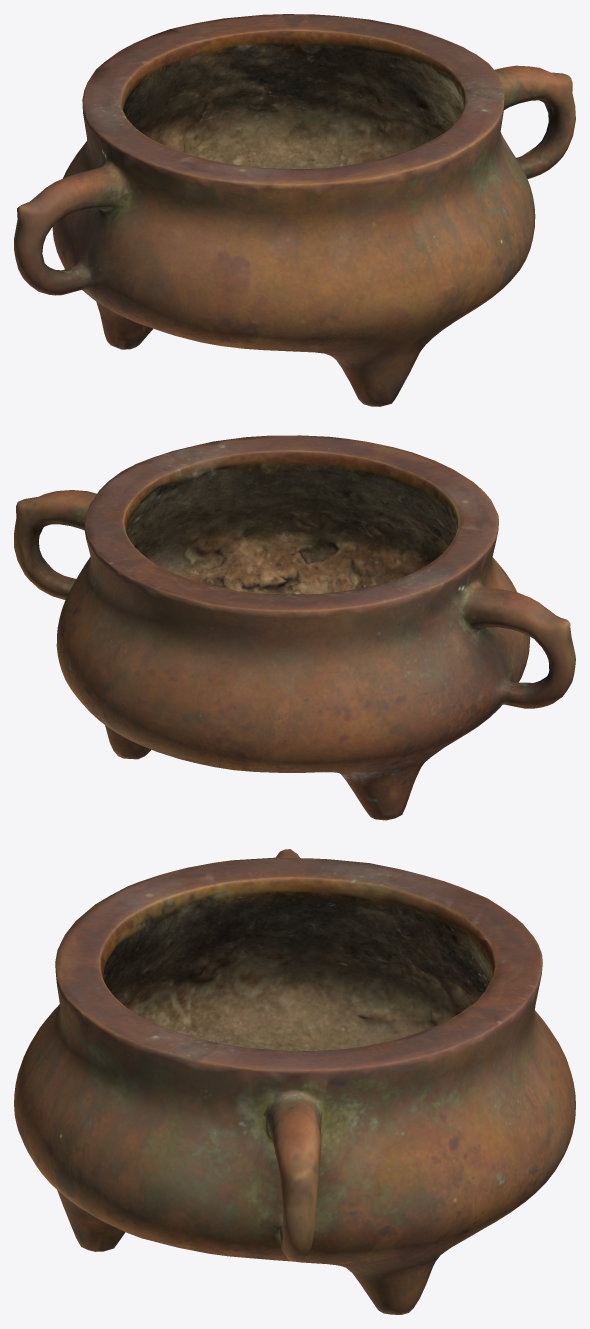
The model's file is MTY005111.glb.
The picture shows the model from 3 angles, top to bottom: view 1: azimuth 30°, elevation 25°; view 2: azimuth 150°, elevation 25°; view 3: azimuth 270°, elevation 25°; orthographic projection. The views are drawn at different scales.
Parts seen in each view (by area): view 1: MTY002606; view 2: MTY002606; view 3: MTY002606.
Part boxes in pixels (bbox=[...]): MTY002606: bbox=[14, 14, 575, 406]; MTY002606: bbox=[14, 435, 575, 820]; MTY002606: bbox=[14, 849, 575, 1314].
Size of the model in its own units: 52.35 by 21.61 by 38.59.
1 material, 1 textured.
